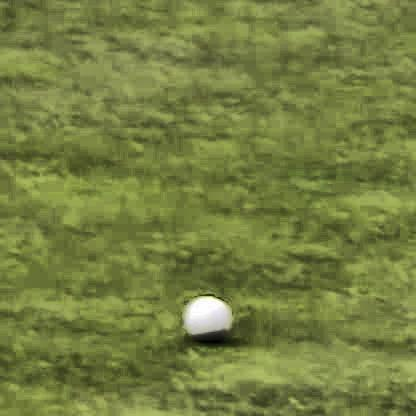golfball: (182, 291, 232, 339)
